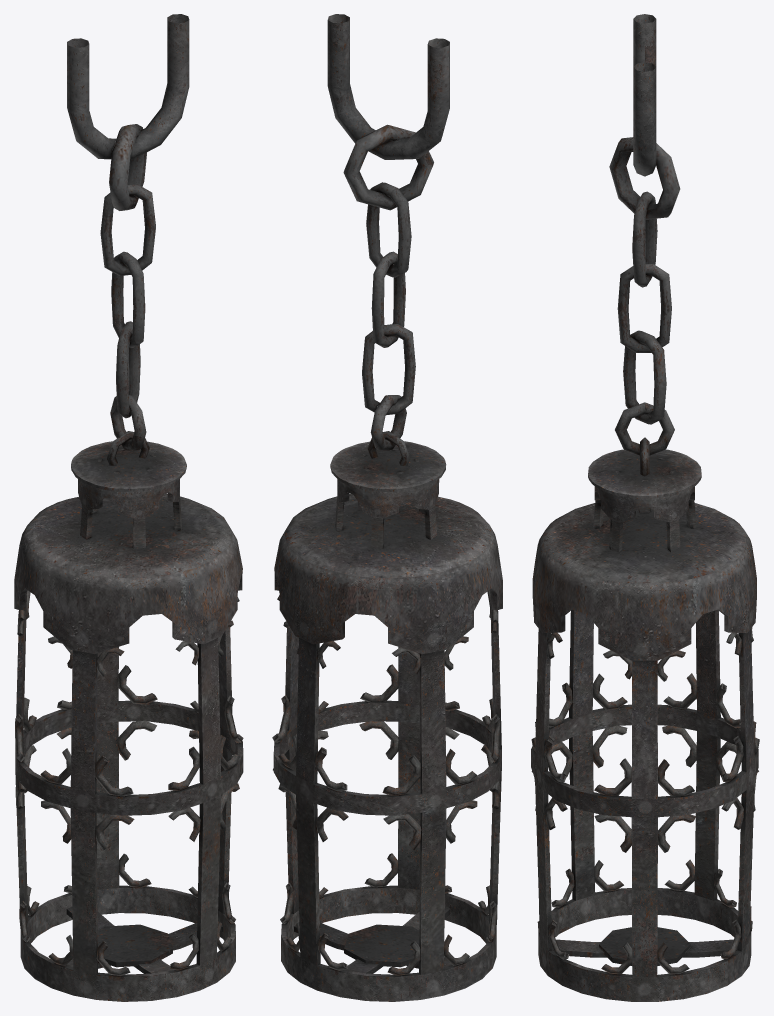
The model's file is sm_Lantern_01_01.fbx.
3 renders of one model, left to right at view 1: azimuth 30°, elevation 25°; view 2: azimuth 150°, elevation 25°; view 3: azimuth 270°, elevation 25°, orthographic.
Parts seen in each view (by area): view 1: sm_Lantern_01_01_LOD0; view 2: sm_Lantern_01_01_LOD0; view 3: sm_Lantern_01_01_LOD0.
Part boxes in pixels (x1,y1,x2,y2): sm_Lantern_01_01_LOD0: (14,14,243,1001); sm_Lantern_01_01_LOD0: (272,14,502,1001); sm_Lantern_01_01_LOD0: (531,14,759,1001).
Bounding box in the file's own units: 20.74 × 20.99 × 92.54.
